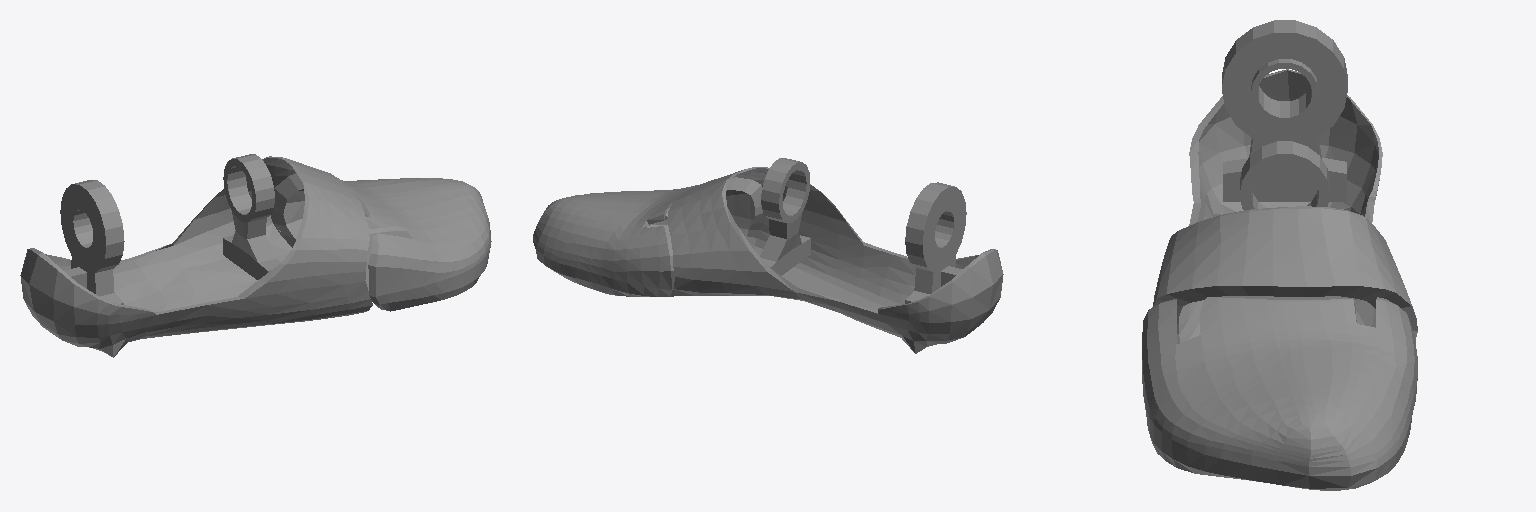
robot.urdf — Rfoot:
<?xml version="1.0" ?>
<robot name="Rfoot">
  <link name="base_link" />

    <link name="RAnkleRollBasic">
    <visual>
      <geometry>
        <mesh filename="package://mc_env_description/meshes/Rfoot/RAnkleRollBasic.stl" />
      </geometry>
      <material name="SecondarySkin">
        <color rgba="0.5882349610328674 0.5882349610328674 0.5882349610328674 1" />
      </material>
    </visual>

  </link>
  <joint name="RAnkleRollBasic" type="fixed">
    <parent link="base_link" />
    <child link="RAnkleRollBasic" />
    <origin rpy="0.0 -0.0 0.0" xyz="0.0 0.0 0.0" />
  </joint>

</robot>

--- Facts derived from the render (not from the file) ---
Views: 3 orthographic renders of the robot side by side, from view 1: azimuth 30°, elevation 25°; view 2: azimuth 150°, elevation 25°; view 3: azimuth 270°, elevation 25°.
Robot: Rfoot — 2 links, 1 joints (1 fixed); root link base_link; default pose: all joints at 0.
Links seen in each view (by area): view 1: RAnkleRollBasic; view 2: RAnkleRollBasic; view 3: RAnkleRollBasic.
Link boxes in pixels (<box>): RAnkleRollBasic: <box>20,154,491,357</box>; RAnkleRollBasic: <box>533,158,1003,353</box>; RAnkleRollBasic: <box>1142,20,1417,490</box>.
Size in the robot's own frame: 0.2795 by 0.1053 by 0.0898 metres.
Meshes: 1 distinct files referenced, 1 mesh visuals loaded (1 binary STL).
